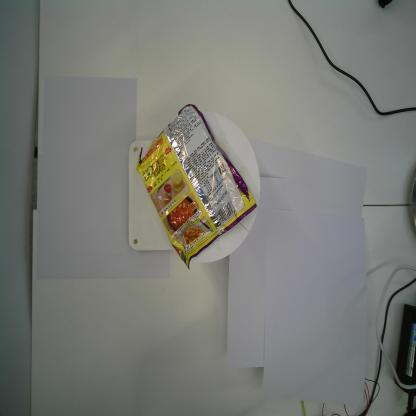Instant Noodles: (136, 101, 260, 270)
